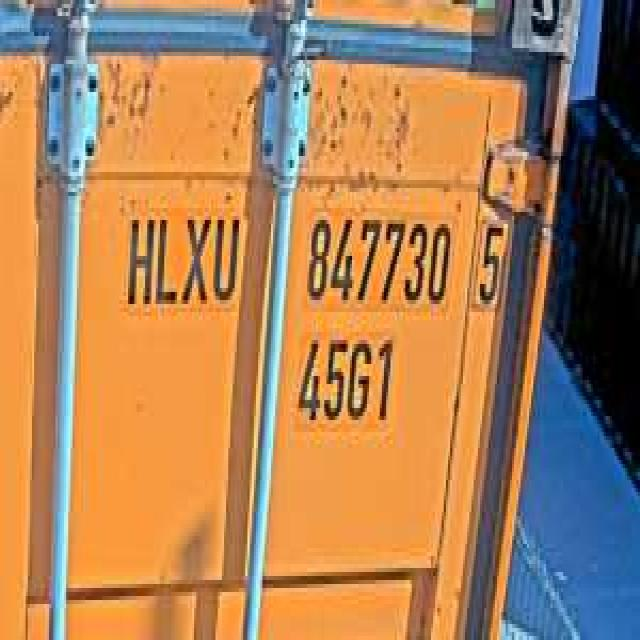dv: (469, 204, 512, 316)
owner: (120, 208, 243, 316)
serial: (303, 208, 454, 316)
size: (292, 328, 397, 428)
